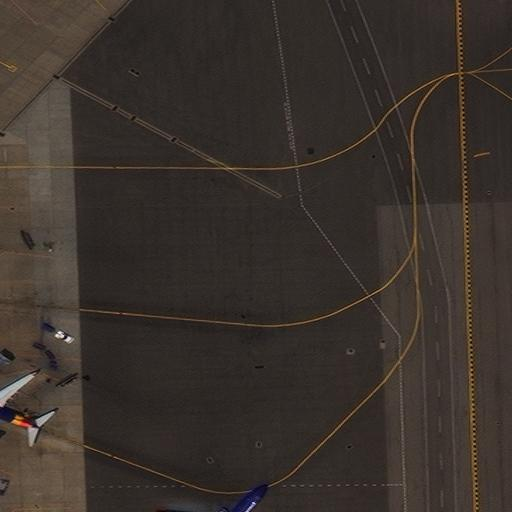Medium Civil Transport: (156, 483, 266, 512), (0, 370, 40, 445)
